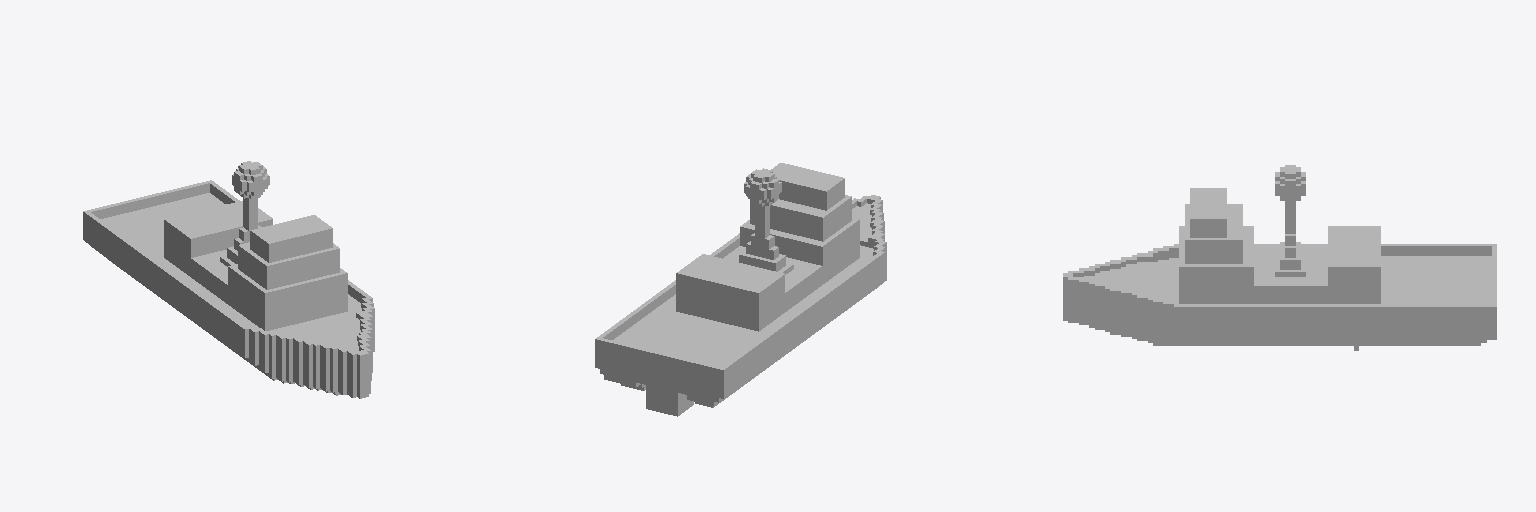
File: ship.obj
3 renders of one model, left to right at view 1: azimuth 30°, elevation 25°; view 2: azimuth 150°, elevation 25°; view 3: azimuth 270°, elevation 25°, orthographic.
Visible parts, largest first — view 1: object 1; view 2: object 1; view 3: object 1.
Boxes of the visible parts, <box> form: object 1: <box>83,161,374,398</box>; object 1: <box>595,163,886,416</box>; object 1: <box>1063,165,1496,350</box>.
Bounding box in the file's own units: 2.8 × 3.6 × 8.2.